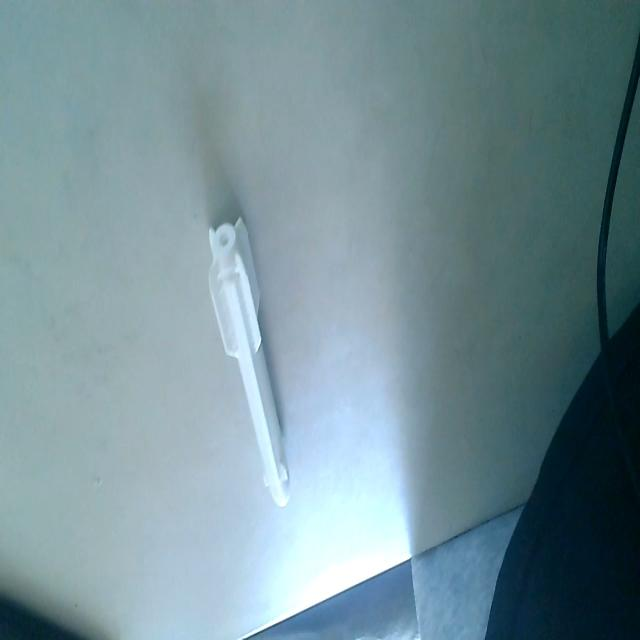Rocket: (205, 209, 292, 510)
